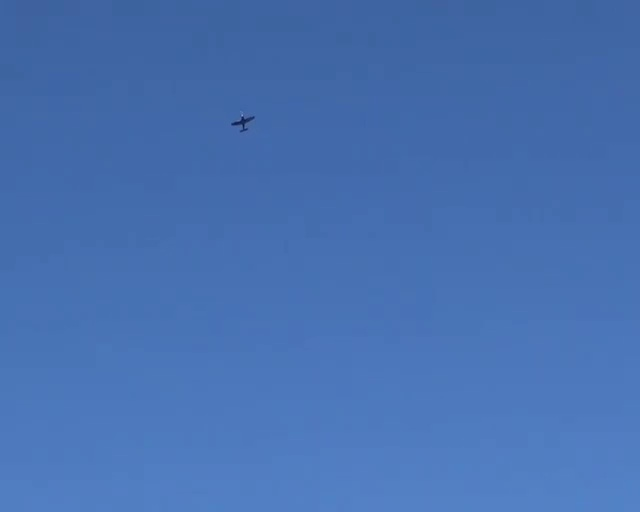AIRPLANE: (232, 112, 255, 132)
